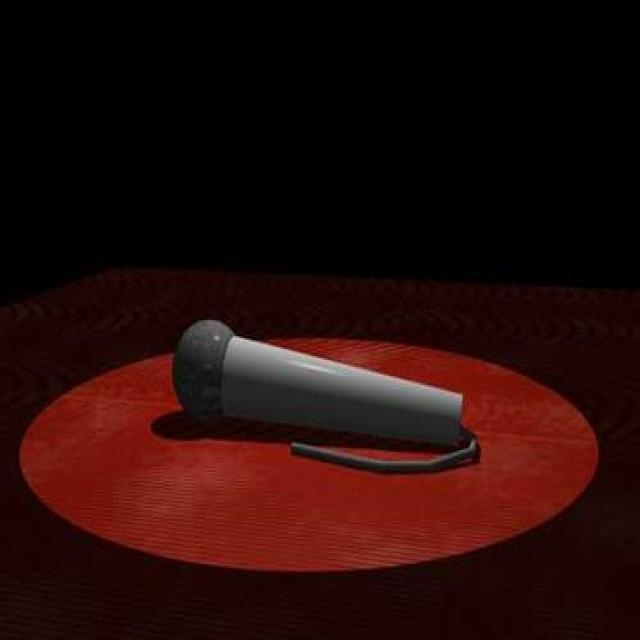microphone: (168, 315, 462, 450)
